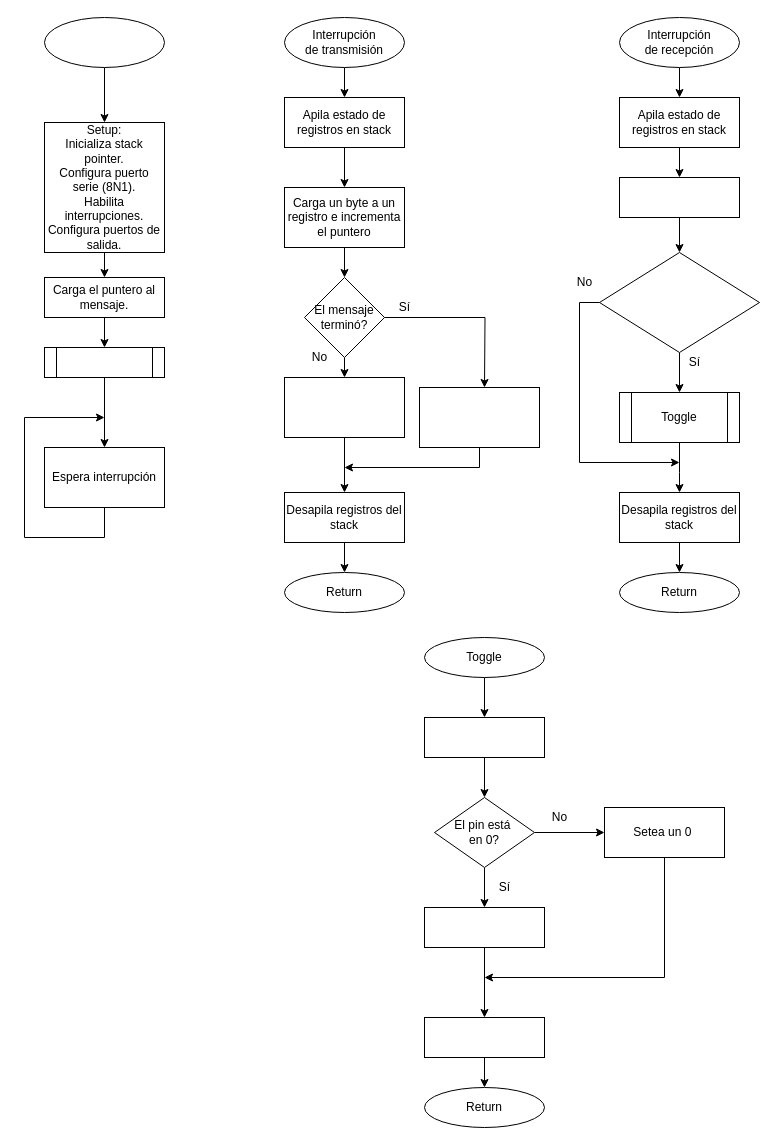
This 777x1145 diagram has some shape labels left out. The shapes that lost their labels are listed below. From the top down, each one's centre as x and y in pixels, then its label:
the point at 104,42: Inicio
the point at 679,197: Lee datos del buffer
the point at 679,302: El caracter recibido es uno de los esperados?
the point at 104,362: Delay
the point at 344,407: Envía byte al puerto serie
the point at 479,417: Deshabilita interrupción
the point at 484,737: Lee puerto C
the point at 484,927: Setea un 1
the point at 484,1037: Escribe puerto C
